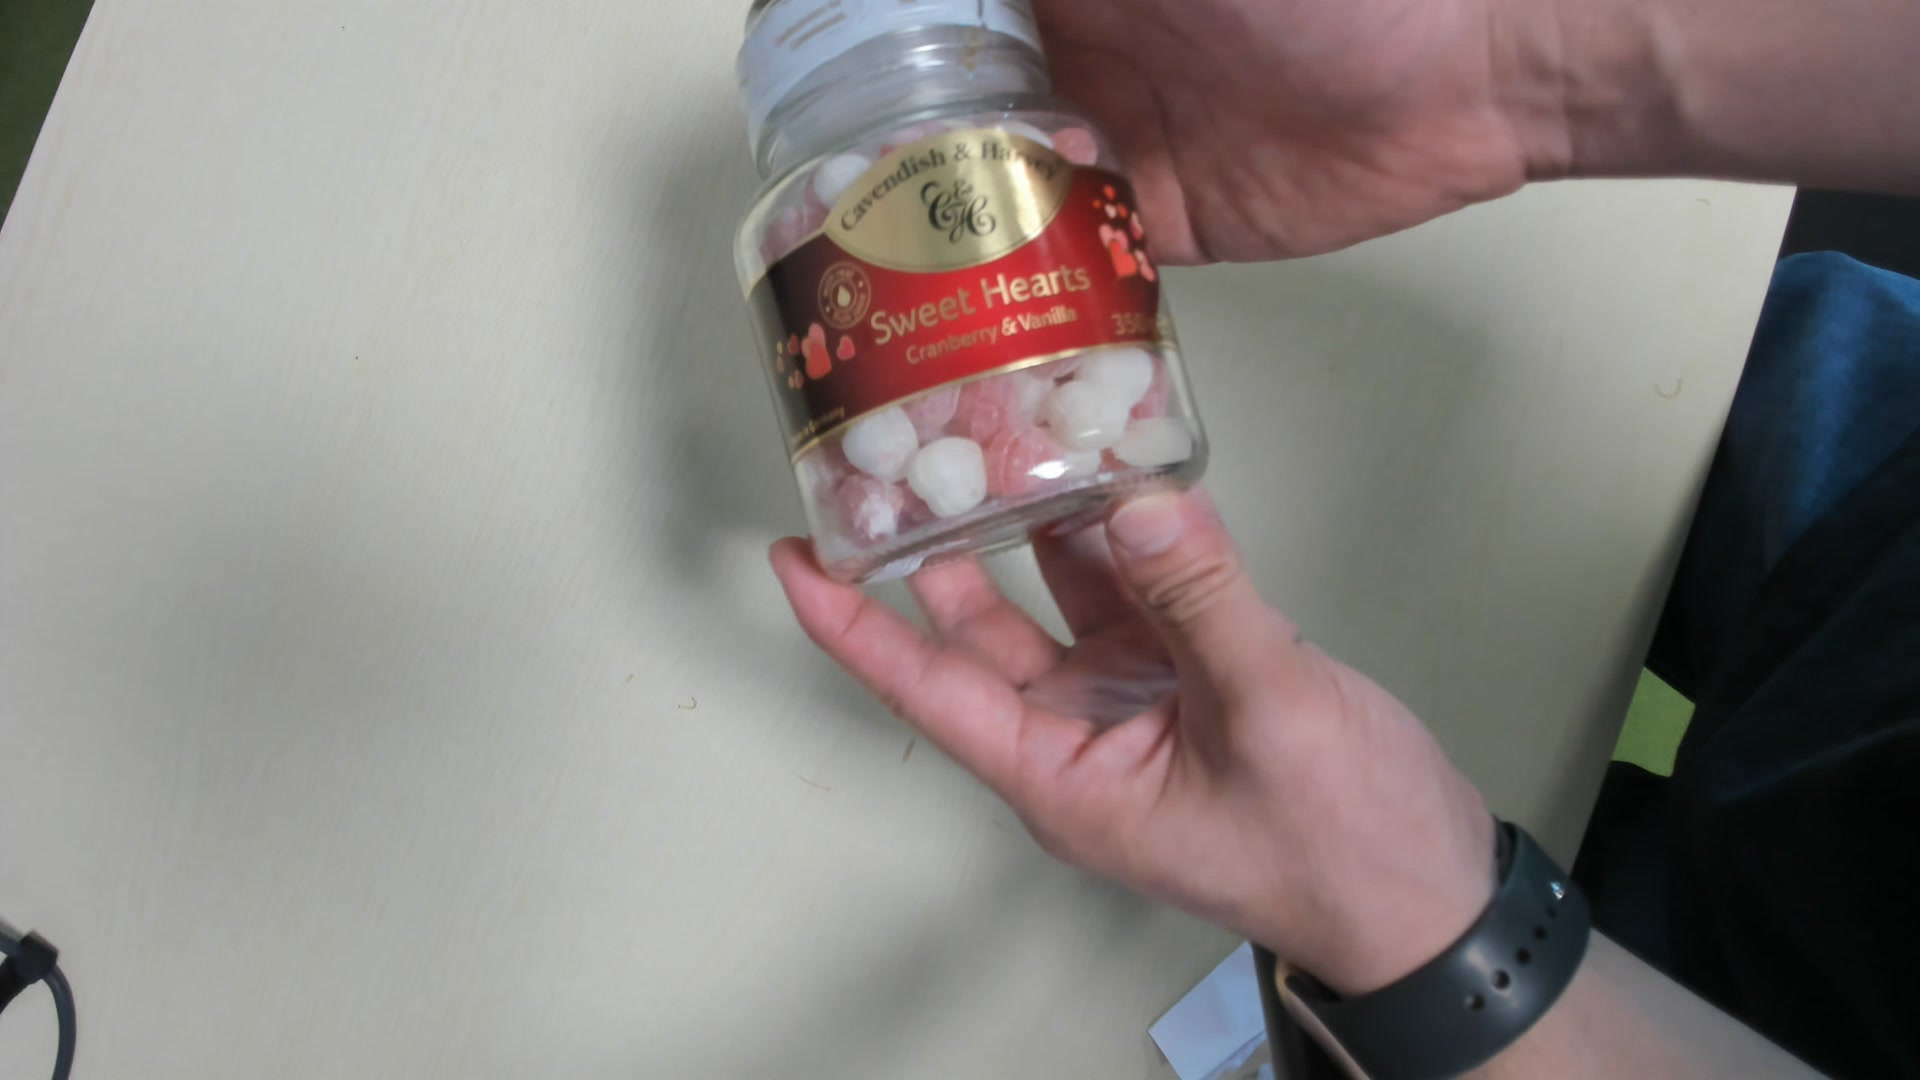SweetsChocolatesOthers_300-399g_NonHalal_Nonhealthy: (727, 7, 1207, 585)
